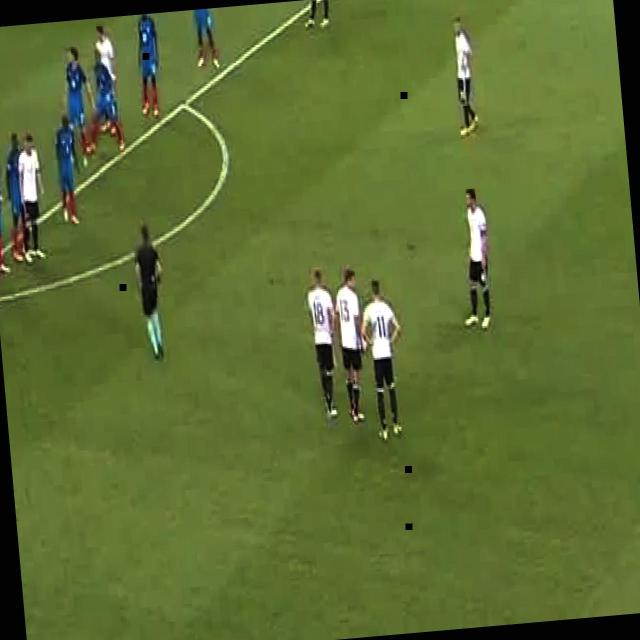player-white: (356, 277, 409, 441), (330, 265, 370, 424), (453, 188, 497, 332), (304, 266, 344, 422), (132, 224, 169, 364), (14, 132, 51, 266), (80, 48, 125, 154), (2, 131, 35, 263), (61, 46, 99, 157), (449, 16, 480, 138), (52, 115, 84, 228), (94, 24, 122, 138), (134, 14, 164, 118), (188, 8, 220, 68), (0, 143, 11, 277), (301, 0, 335, 28)
